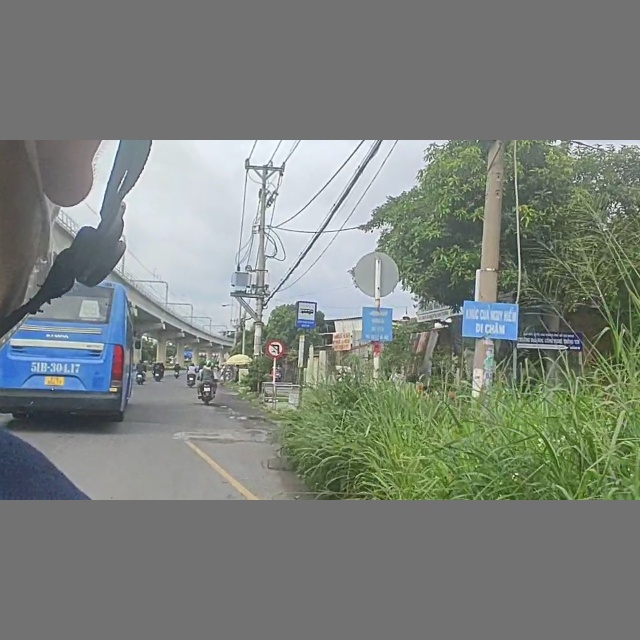I.434a: (295, 299, 319, 329)
P.123a: (265, 339, 285, 357)
